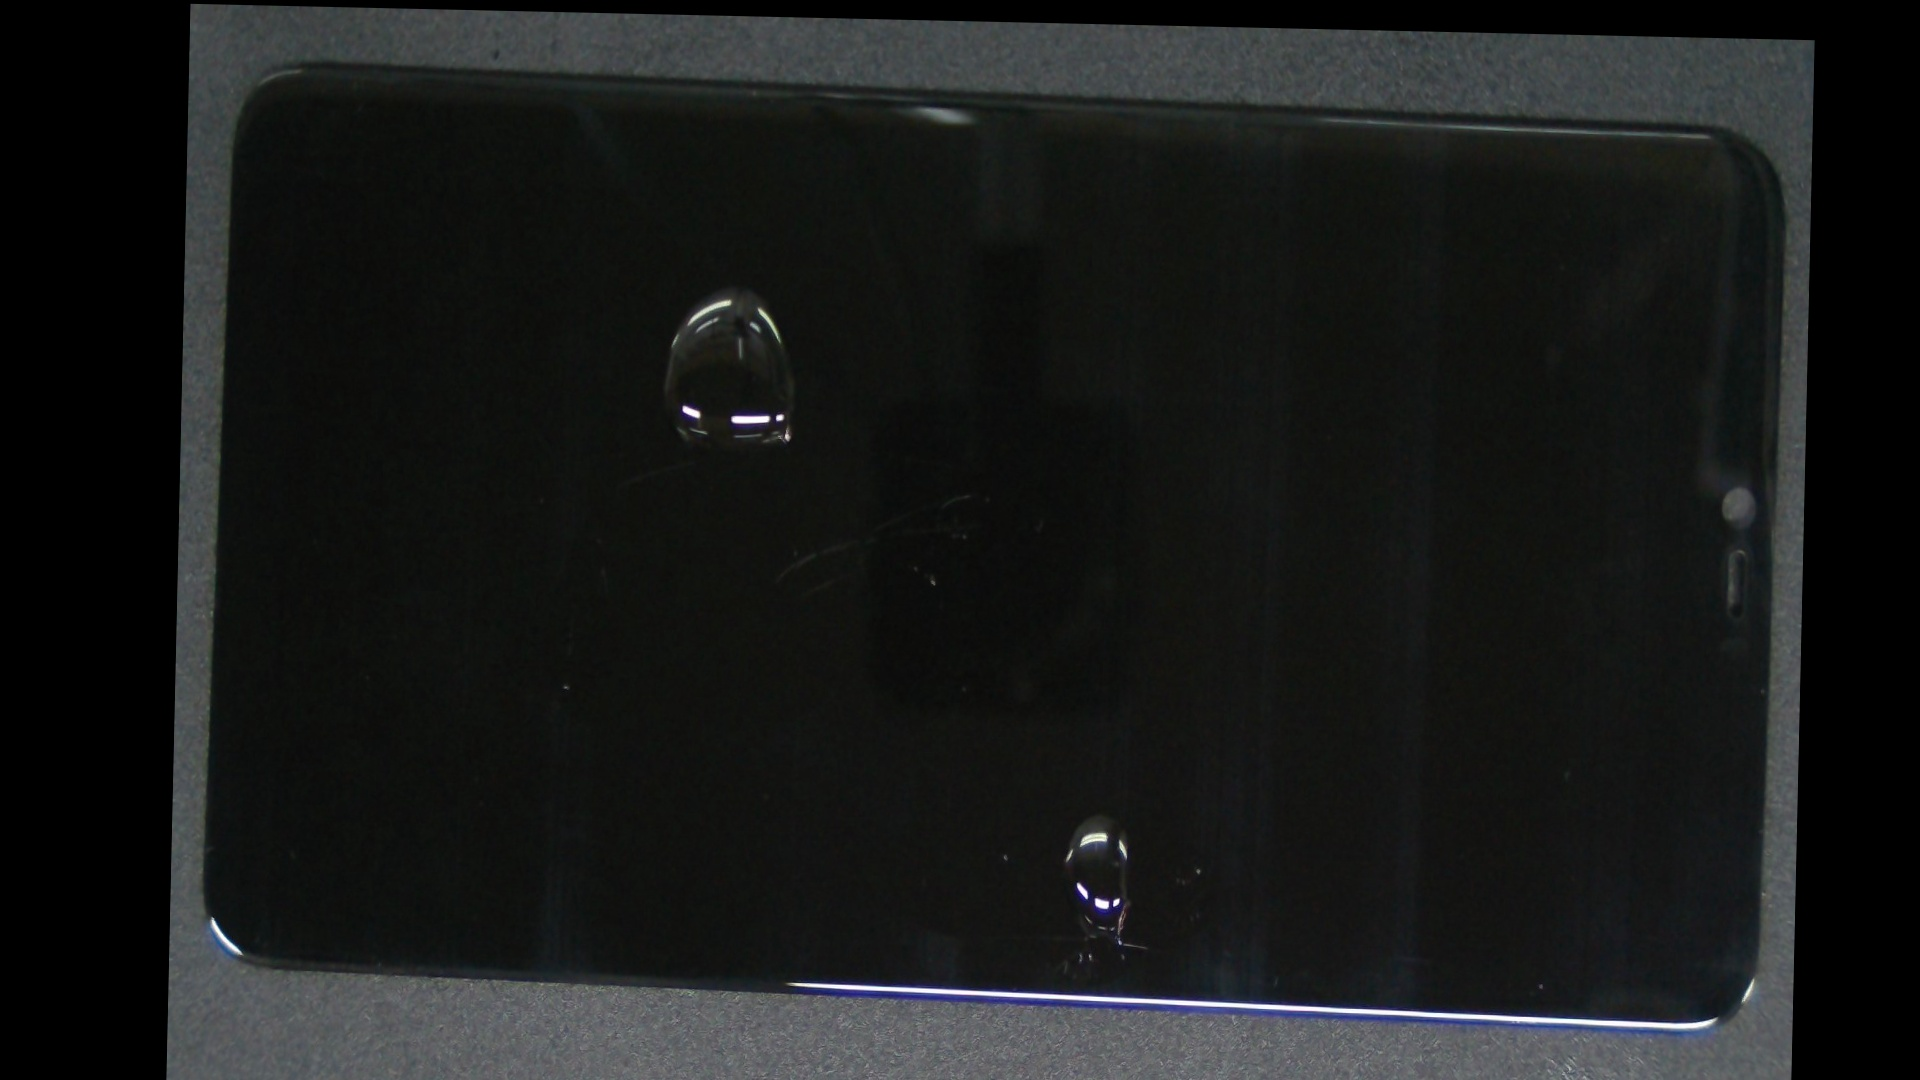oil: (628, 409, 1565, 1080), (458, 144, 1015, 426)
